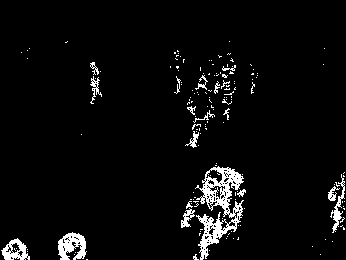person: (188, 77, 215, 147), (215, 64, 238, 121)
